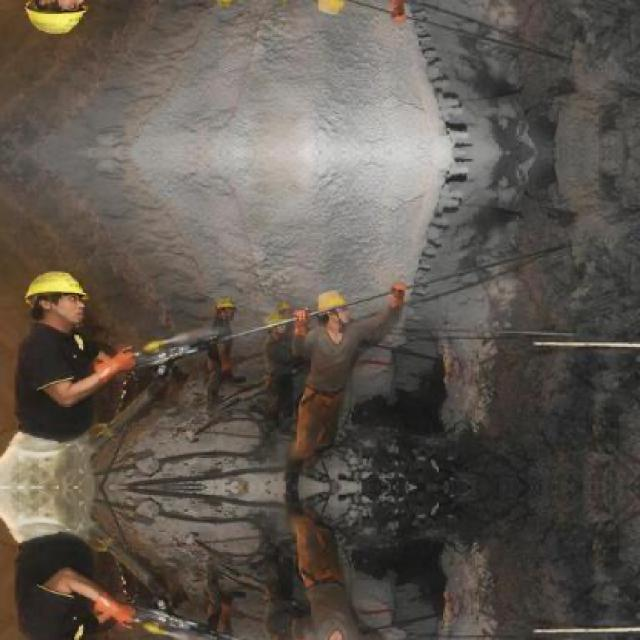con casco: (15, 246, 126, 391)
